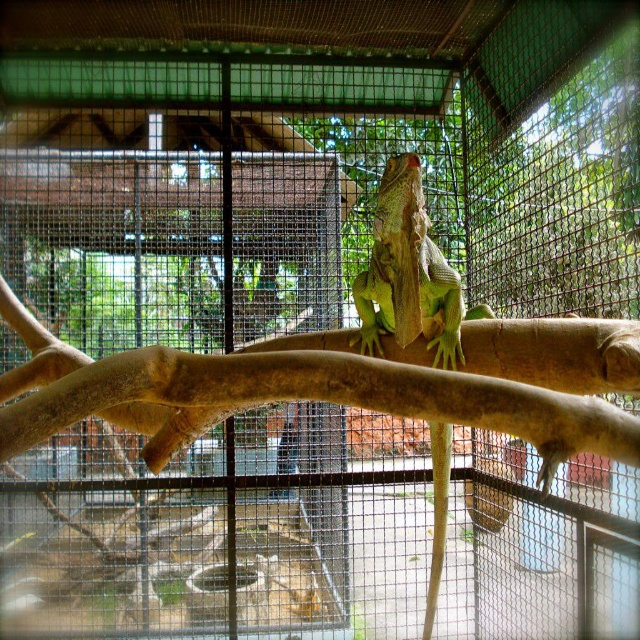Lizard: (349, 148, 494, 639)
